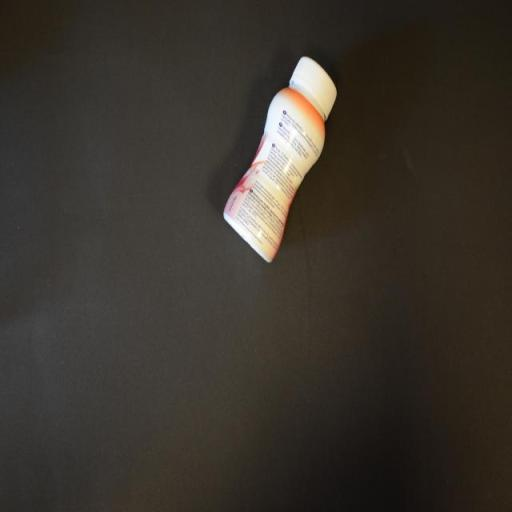plastic: (222, 58, 340, 267)
